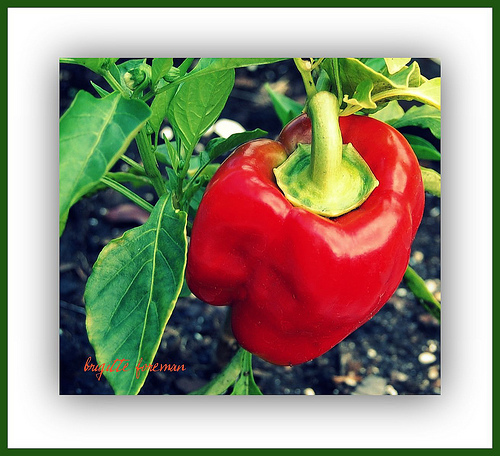capsicum: (184, 91, 425, 367)
